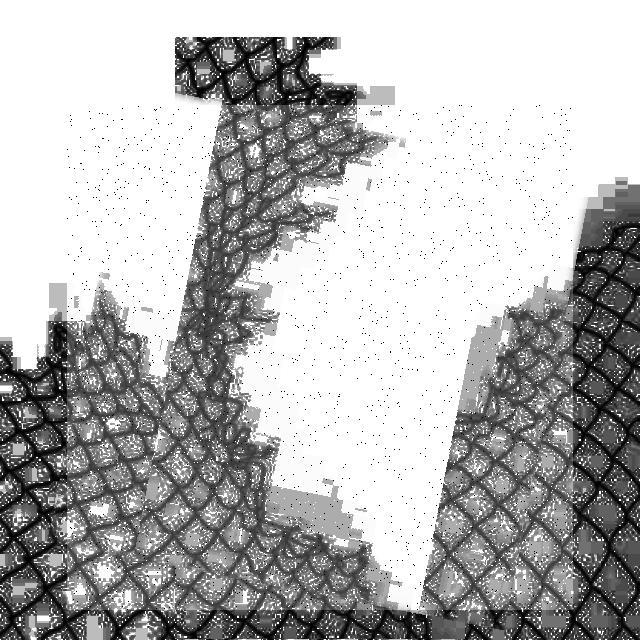anomaly-fence: (67, 105, 573, 610)
